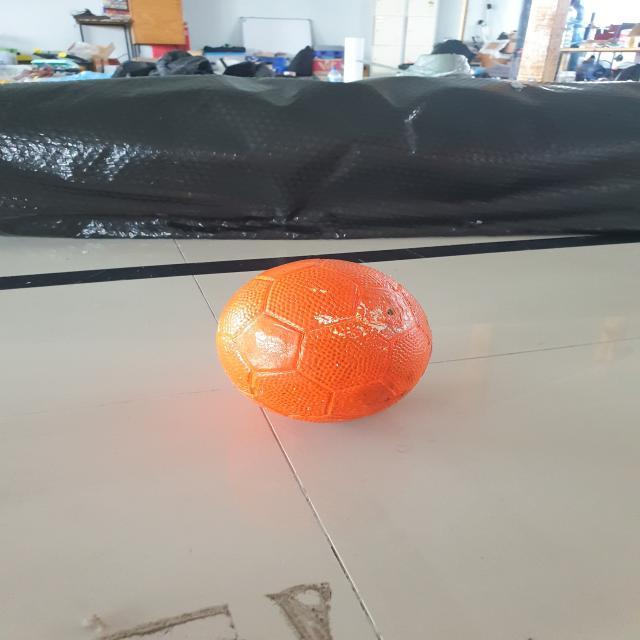bola: (212, 253, 444, 438)
